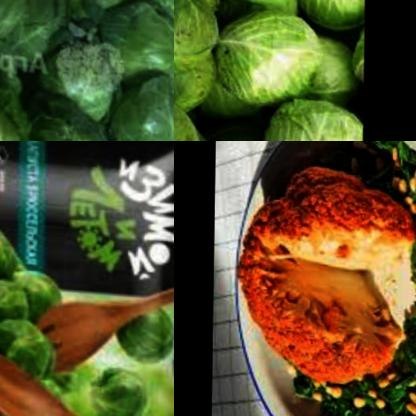beans: (389, 168, 416, 210), (312, 377, 345, 405), (395, 380, 416, 416), (370, 388, 389, 409), (352, 385, 369, 408), (358, 408, 375, 416)
brus capusta: (174, 0, 367, 141), (0, 0, 174, 141), (0, 206, 62, 416), (92, 354, 162, 416), (119, 289, 174, 365)
cayliflower: (222, 167, 416, 389)
